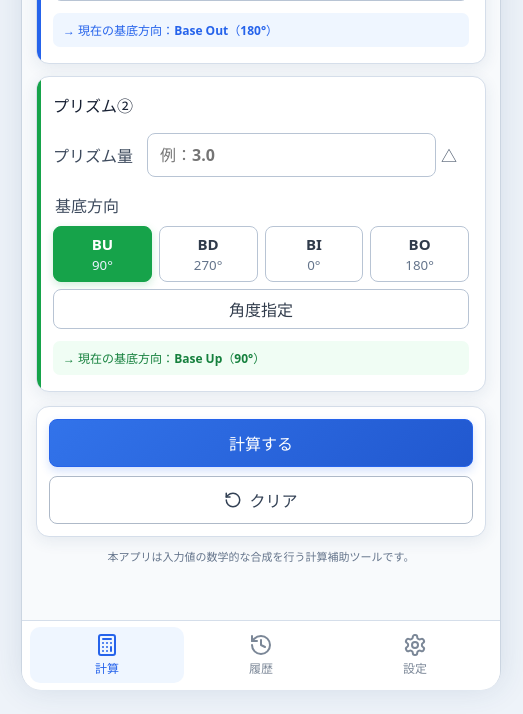
Test: CalculatorPage › 必須入力を検証する
(page scrolled)
Click the button "計算する" at [261, 443], box x1=49 y1=419 x2=473 y2=467
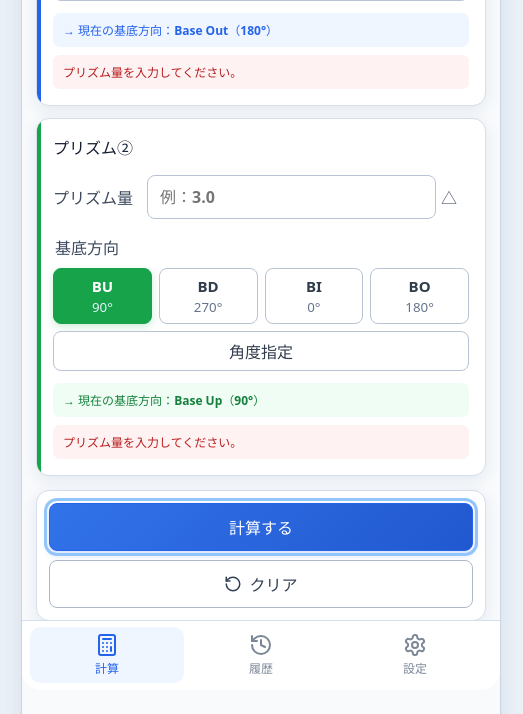
Check: the text "プリズム量を入力してください。" is shown 2 times, box x1=53 y1=55 x2=469 y2=89; x1=53 y1=425 x2=469 y2=459
